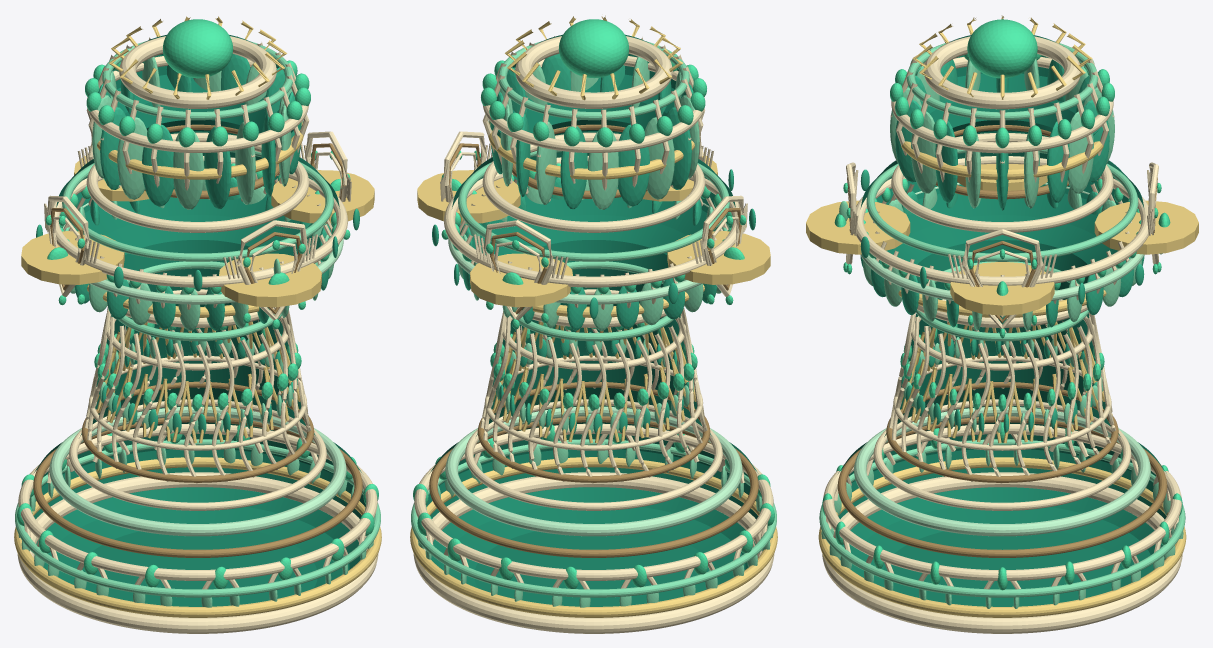
The model's file is Royal_Green_Token.glb.
3 renders of one model, left to right at view 1: azimuth 30°, elevation 25°; view 2: azimuth 150°, elevation 25°; view 3: azimuth 270°, elevation 25°, orthographic.
Visible parts, largest first — view 1: green_jewel_material_1, green_jewel_material_0, green_jewel_material_3, green_jewel_material_2, green_jewel_material_7, green_jewel_material_6, green_jewel_material_4, green_jewel_material_5; view 2: green_jewel_material_1, green_jewel_material_0, green_jewel_material_2, green_jewel_material_3, green_jewel_material_7, green_jewel_material_6, green_jewel_material_4, green_jewel_material_5; view 3: green_jewel_material_1, green_jewel_material_0, green_jewel_material_2, green_jewel_material_3, green_jewel_material_7, green_jewel_material_6, green_jewel_material_4, green_jewel_material_5.
Boxes of the visible parts, box(x1,y1,x2,y2) form: green_jewel_material_1: box(17, 36, 378, 633); green_jewel_material_0: box(29, 35, 365, 606); green_jewel_material_3: box(15, 41, 380, 607); green_jewel_material_2: box(14, 16, 381, 617); green_jewel_material_7: box(17, 19, 378, 588); green_jewel_material_6: box(36, 54, 359, 434); green_jewel_material_4: box(33, 124, 362, 557); green_jewel_material_5: box(49, 187, 346, 536); green_jewel_material_1: box(413, 36, 774, 633); green_jewel_material_0: box(426, 34, 762, 606); green_jewel_material_2: box(410, 15, 777, 617); green_jewel_material_3: box(411, 41, 776, 607); green_jewel_material_7: box(413, 19, 774, 588); green_jewel_material_6: box(432, 54, 755, 434); green_jewel_material_4: box(429, 124, 758, 557); green_jewel_material_5: box(445, 187, 742, 536); green_jewel_material_1: box(822, 36, 1182, 633); green_jewel_material_0: box(838, 35, 1166, 606); green_jewel_material_2: box(806, 15, 1198, 617); green_jewel_material_3: box(819, 43, 1185, 608); green_jewel_material_7: box(822, 19, 1182, 590); green_jewel_material_6: box(860, 59, 1144, 433); green_jewel_material_4: box(837, 125, 1167, 557); green_jewel_material_5: box(854, 183, 1150, 536).
Size of the model in its own units: 0.558 by 0.865 by 0.558.
